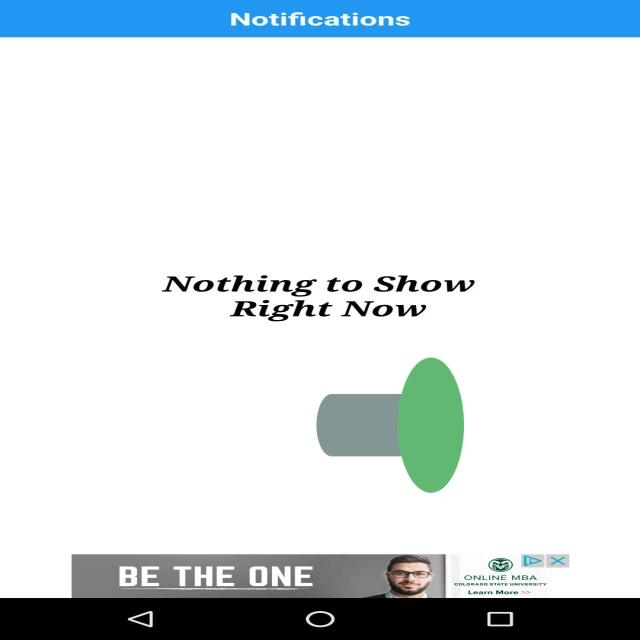social proof: (316, 274, 464, 576)
